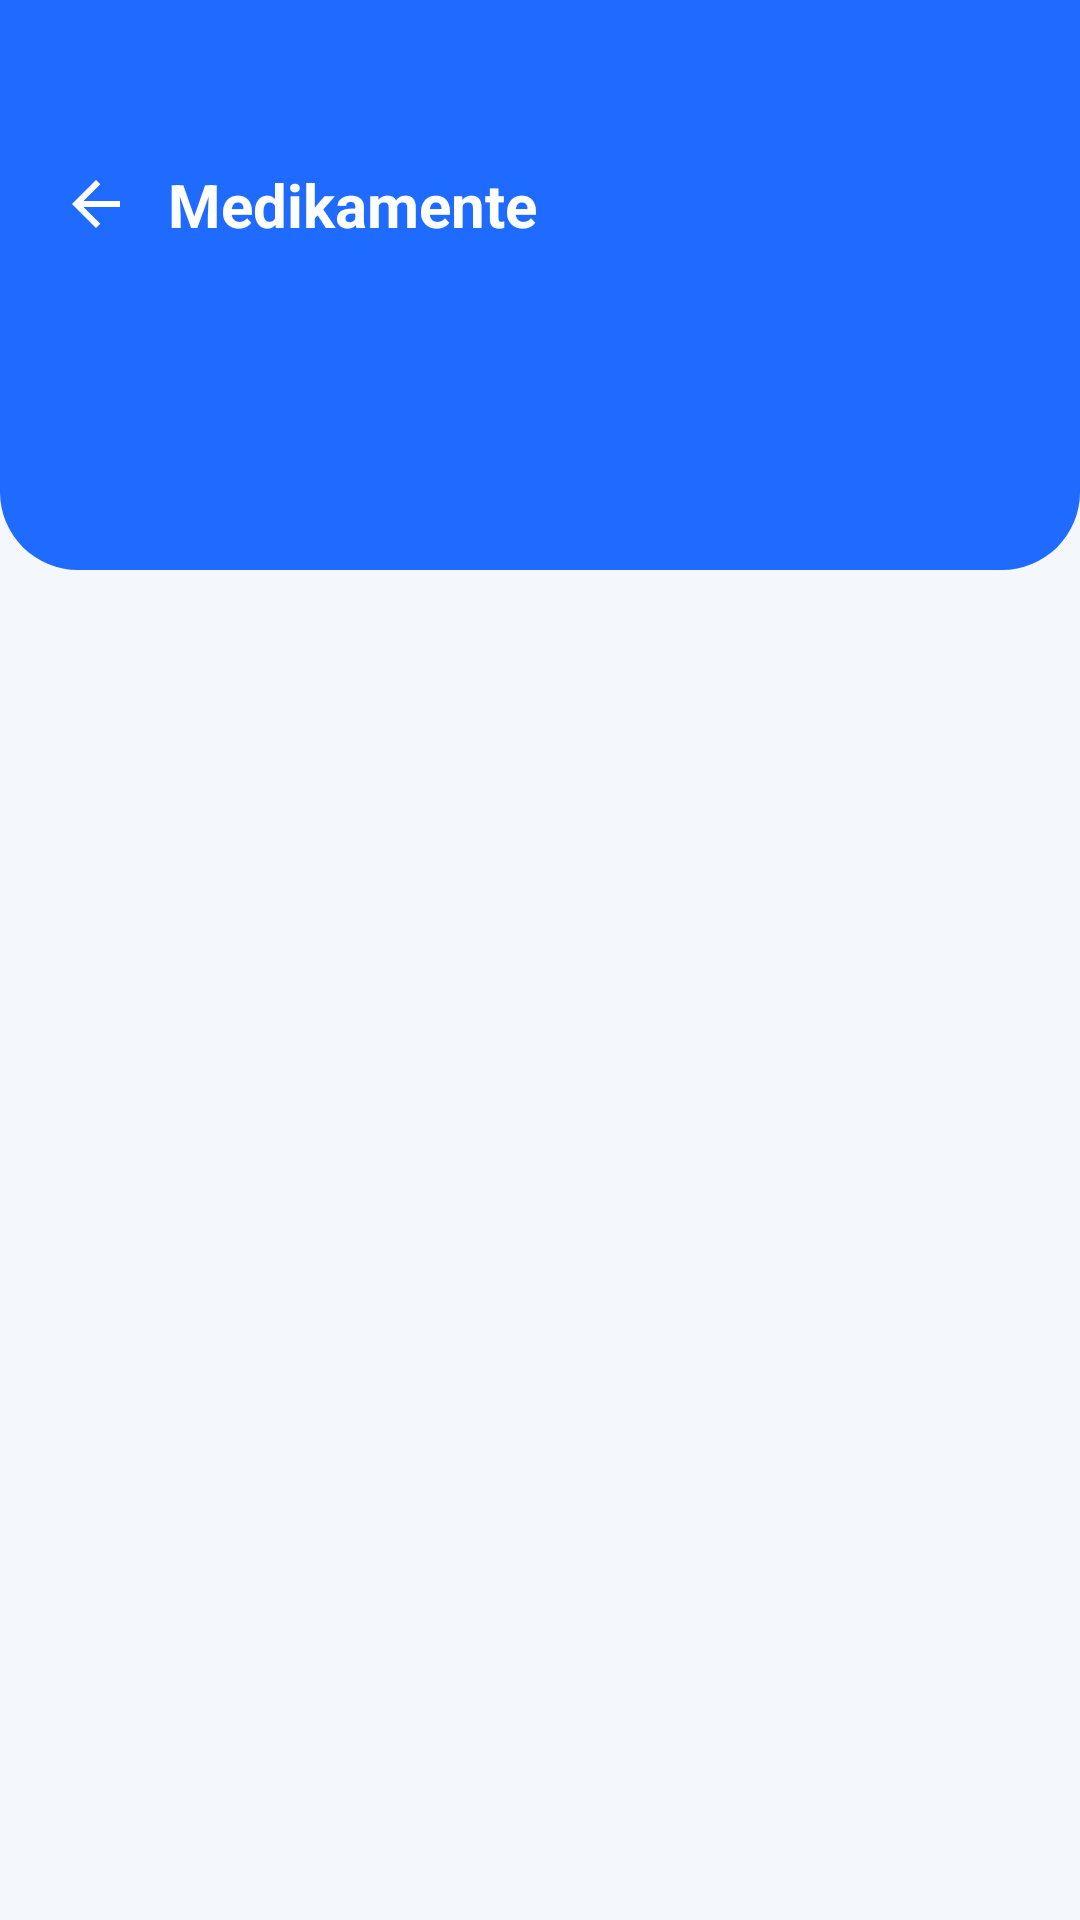

Screen size 1080px×1920px. Icon name, then its center in pixels as (x=x, y=y):
back: (x=96, y=204)
